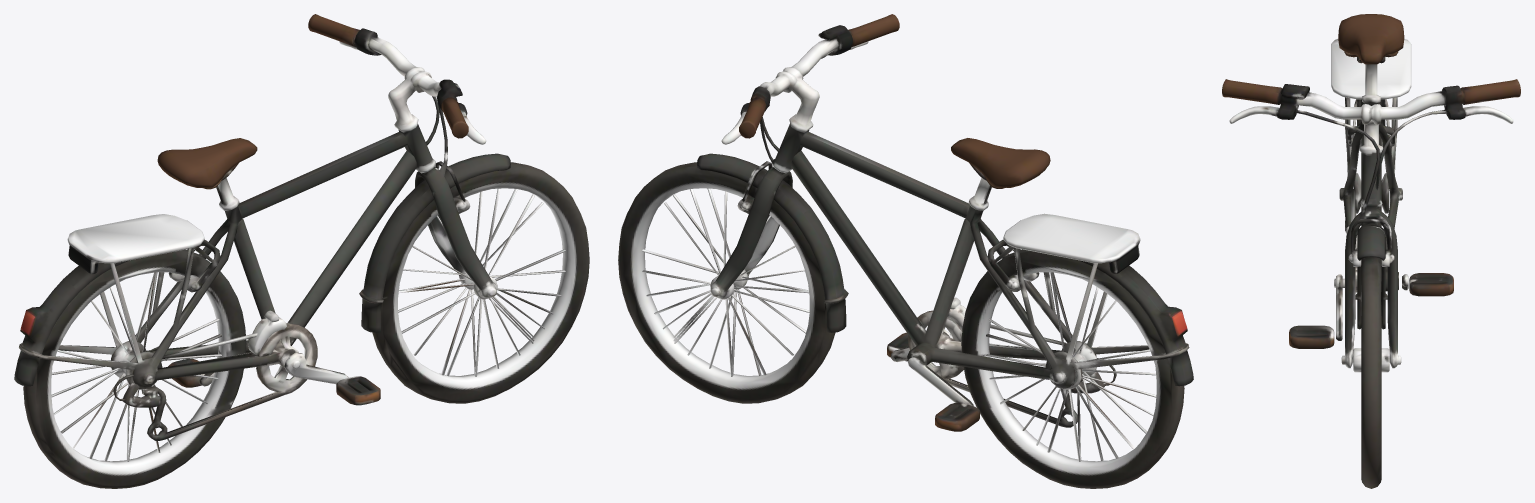
File: Vehicles__bycicle_everyday_realistic_style_a51f2edf_v2.cluster.glb
The picture shows the model from 3 angles, left to right: view 1: azimuth 30°, elevation 25°; view 2: azimuth 150°, elevation 25°; view 3: azimuth 270°, elevation 25°; orthographic projection.
Visible parts, largest first — view 1: mesh_input; view 2: mesh_input; view 3: mesh_input.
Boxes of the visible parts, x1=… form: mesh_input: x1=14, y1=14, x2=589, y2=488; mesh_input: x1=618, y1=14, x2=1193, y2=488; mesh_input: x1=1222, y1=14, x2=1520, y2=488.
Size of the model in its own units: 1.9 by 1.15 by 0.8633.
1 material, 1 textured.
